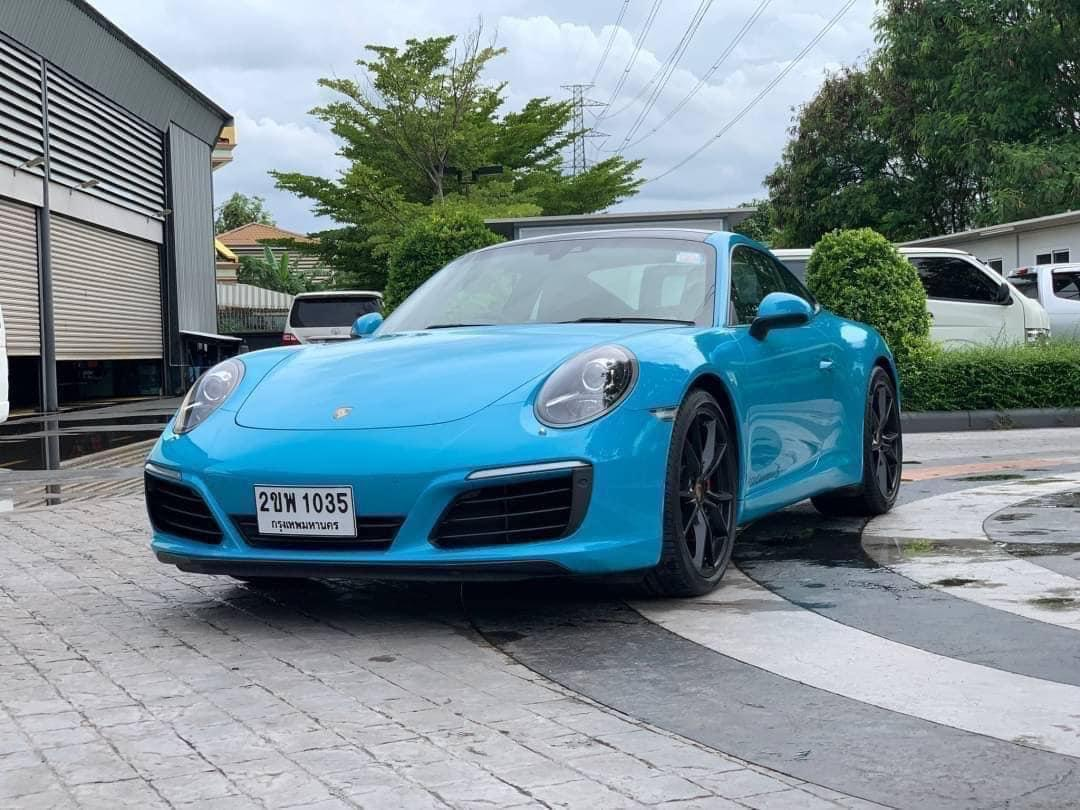license-plate: (238, 476, 369, 549)
